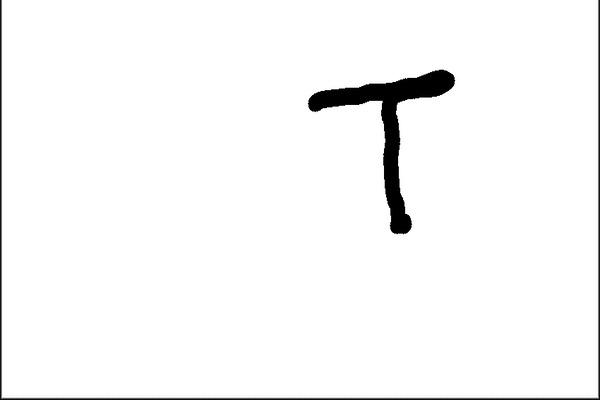T: (307, 67, 459, 241)
